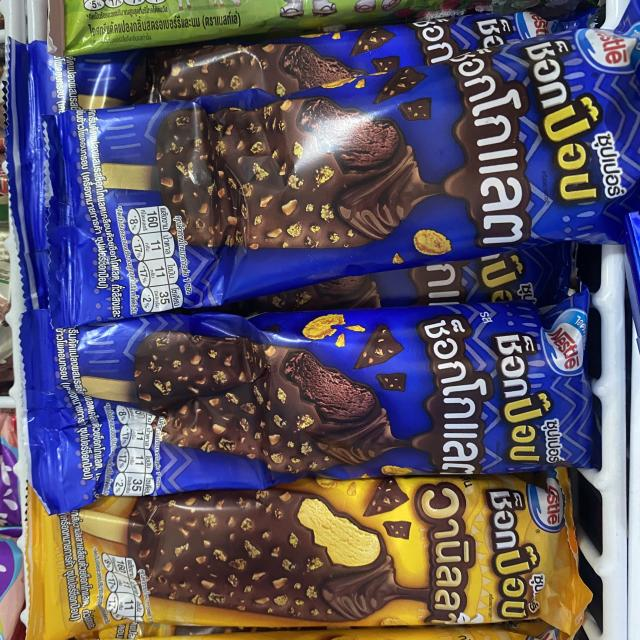plastik: (48, 29, 640, 327), (20, 291, 593, 513), (25, 469, 592, 640)
